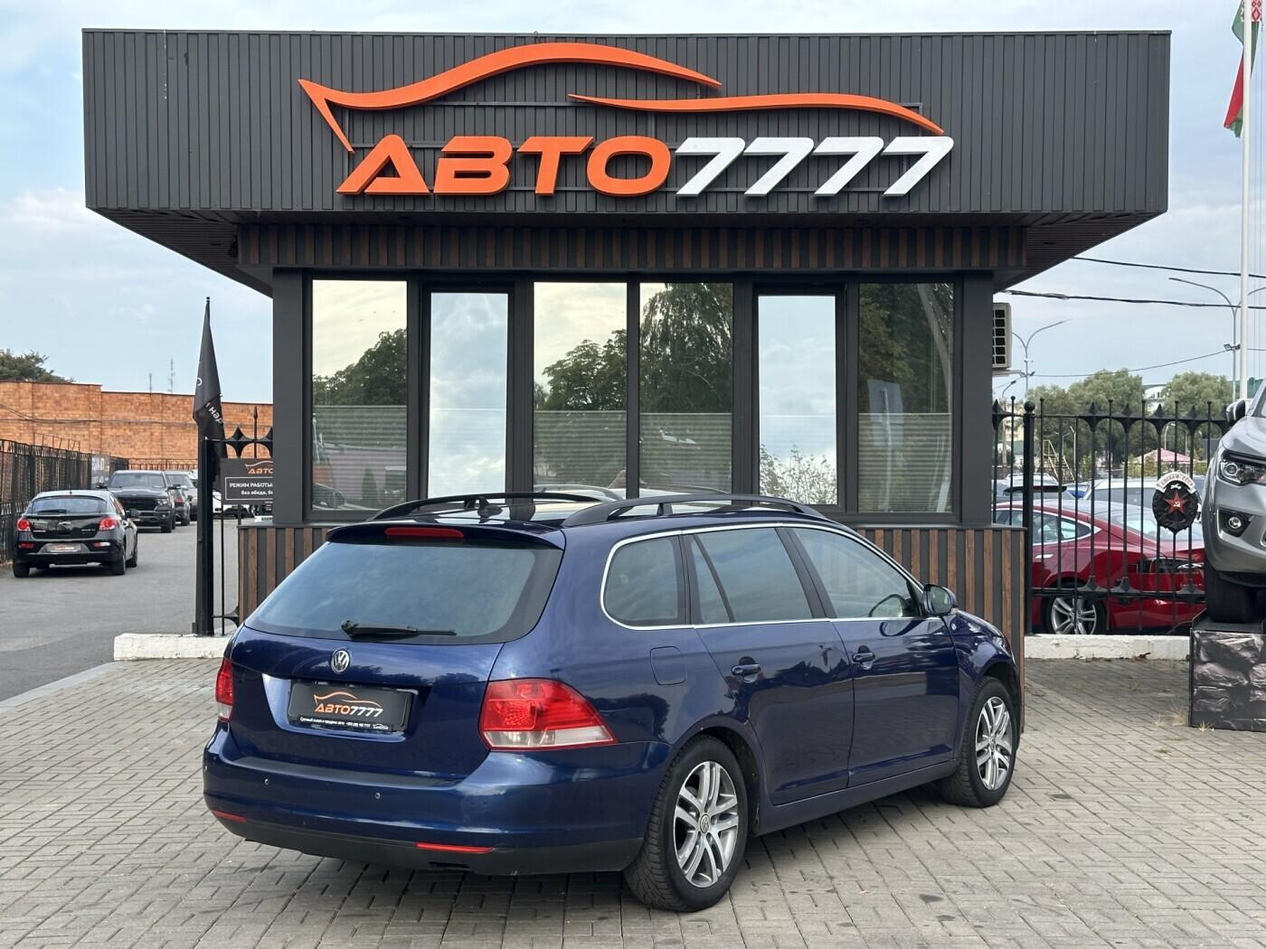Golf_2003-2009: (195, 505, 1024, 914)
